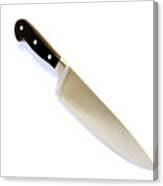Knife: (13, 18, 152, 170)
